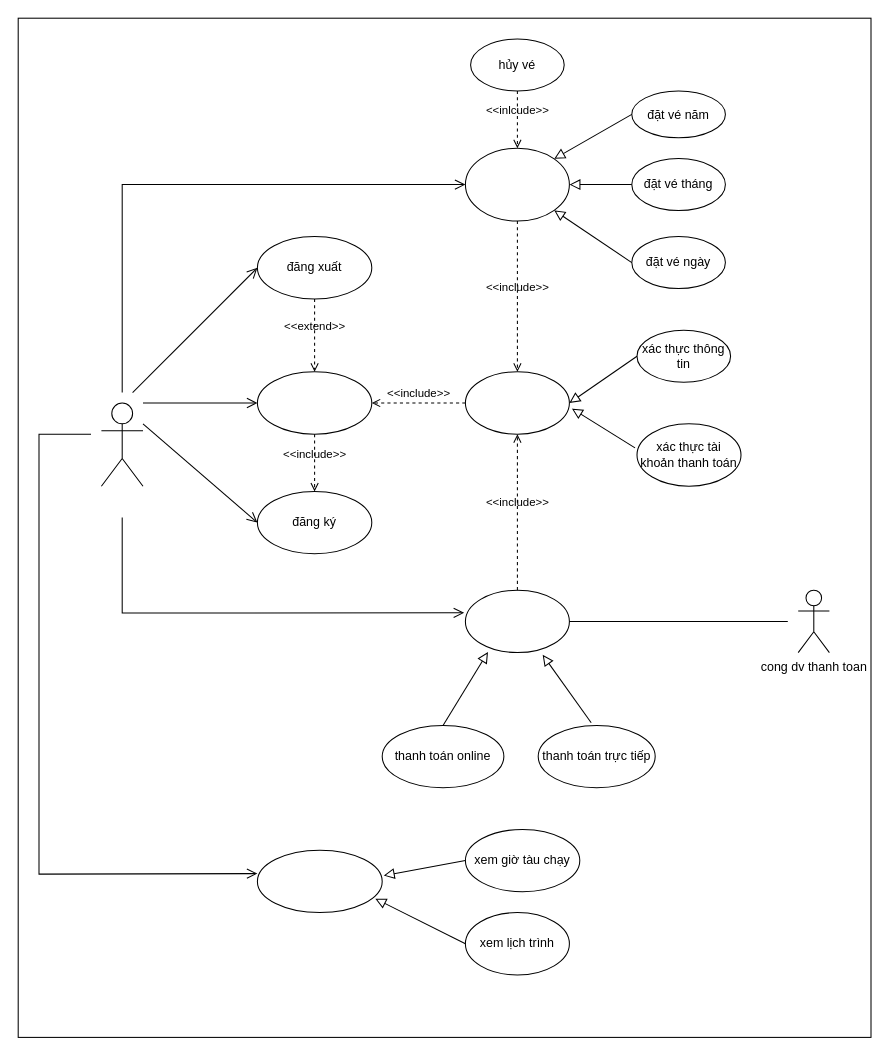
This 889x1056 diagram has some shape labels left out. The centre of each missing label's shape, as x and y in pixels:
khách hàng: point 121,444
thanh toán: point 516,621
tra cứu: point 319,881
xác thực: point 516,402
đăng nhập: point 314,402
đặt vé: point 516,184
